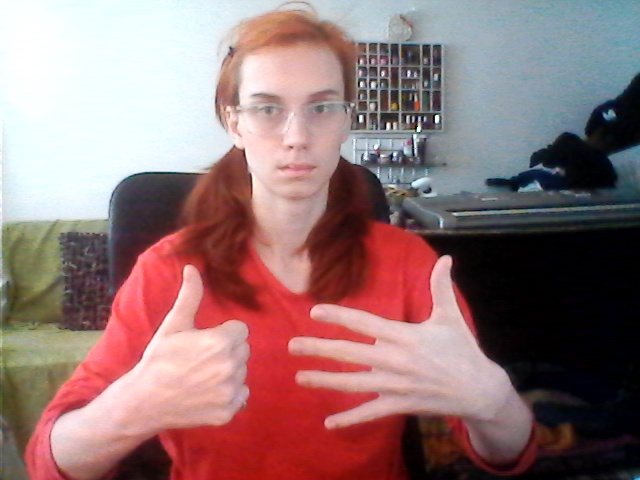sest: (147, 251, 500, 434)
